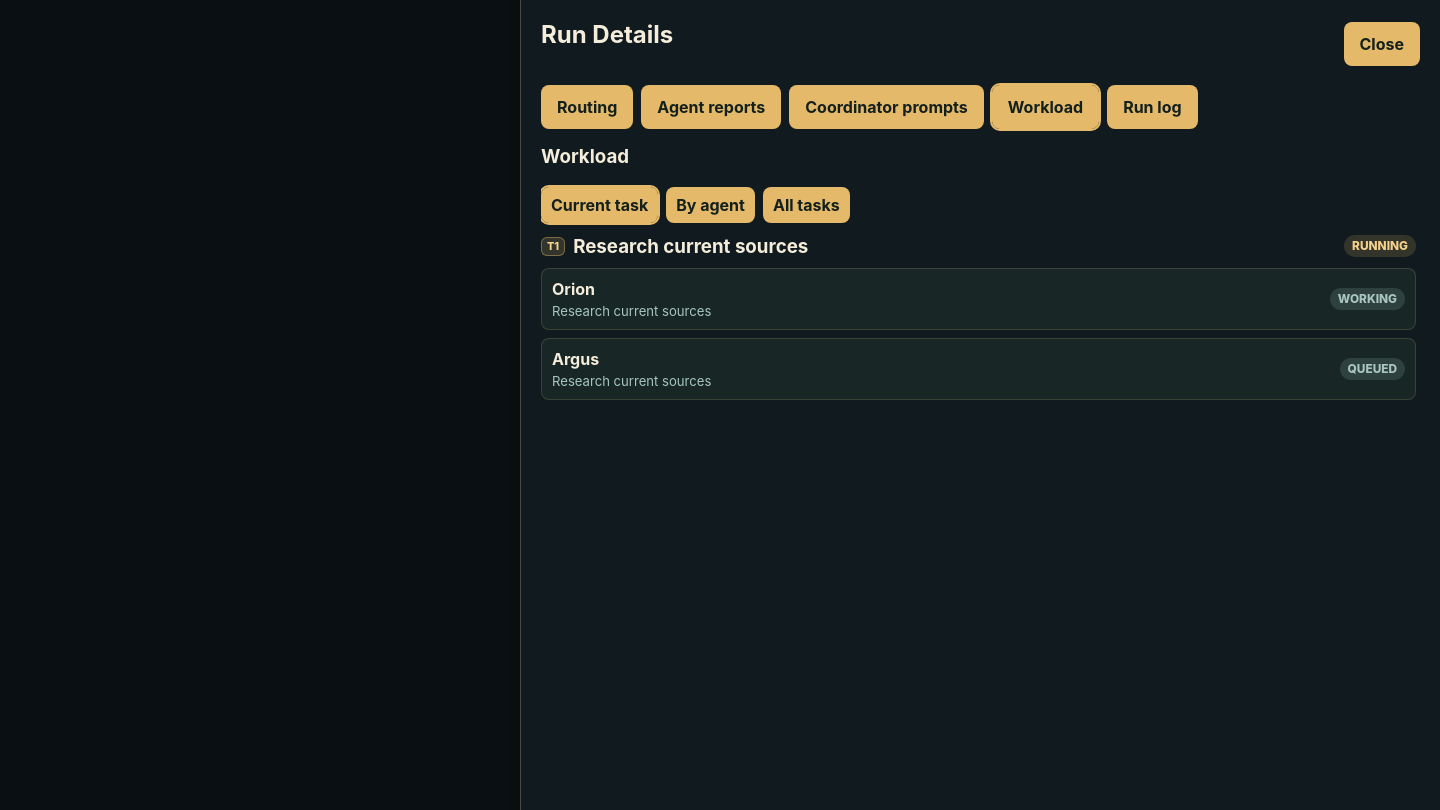
Test: RunDetailDrawer › shows workload details by current task, agent, and all tasks
Check: the element named "Current task workload" shows "T1", box [547, 239, 559, 253]
Check: the element named "Current task workload" shows "Research current sources", box [573, 235, 808, 258]
Click the button "By agent" at {"x": 711, "y": 205}, box [666, 187, 755, 223]
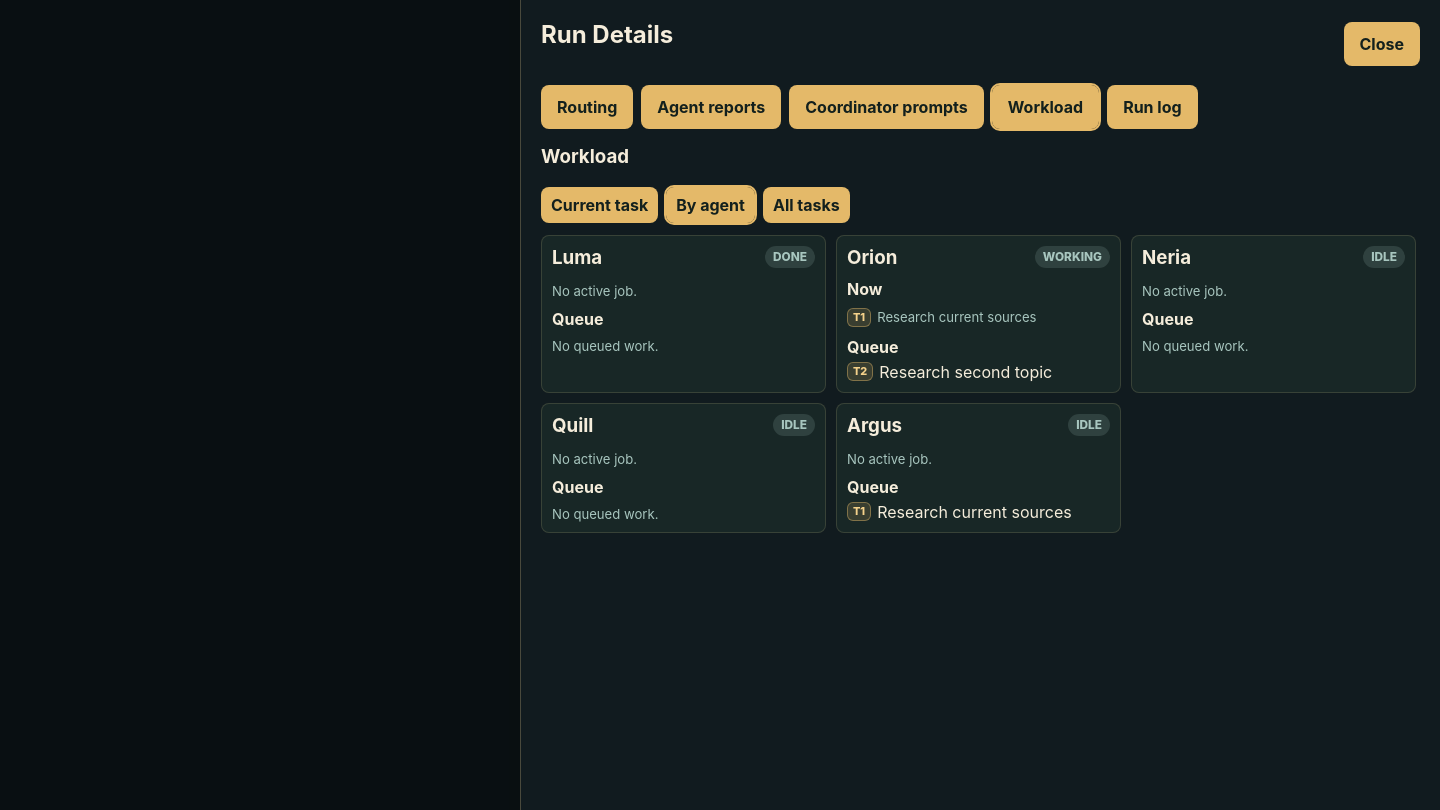
Check: the element named "Orion workload" shows "Now", box [847, 279, 882, 299]
Check: the element named "Orion workload" shows "T1", box [853, 310, 865, 324]
Check: the element named "Orion workload" shows "Research current sources", box [877, 309, 1037, 325]
Click the button "All tasks" at {"x": 806, "y": 205}, box [763, 187, 850, 223]
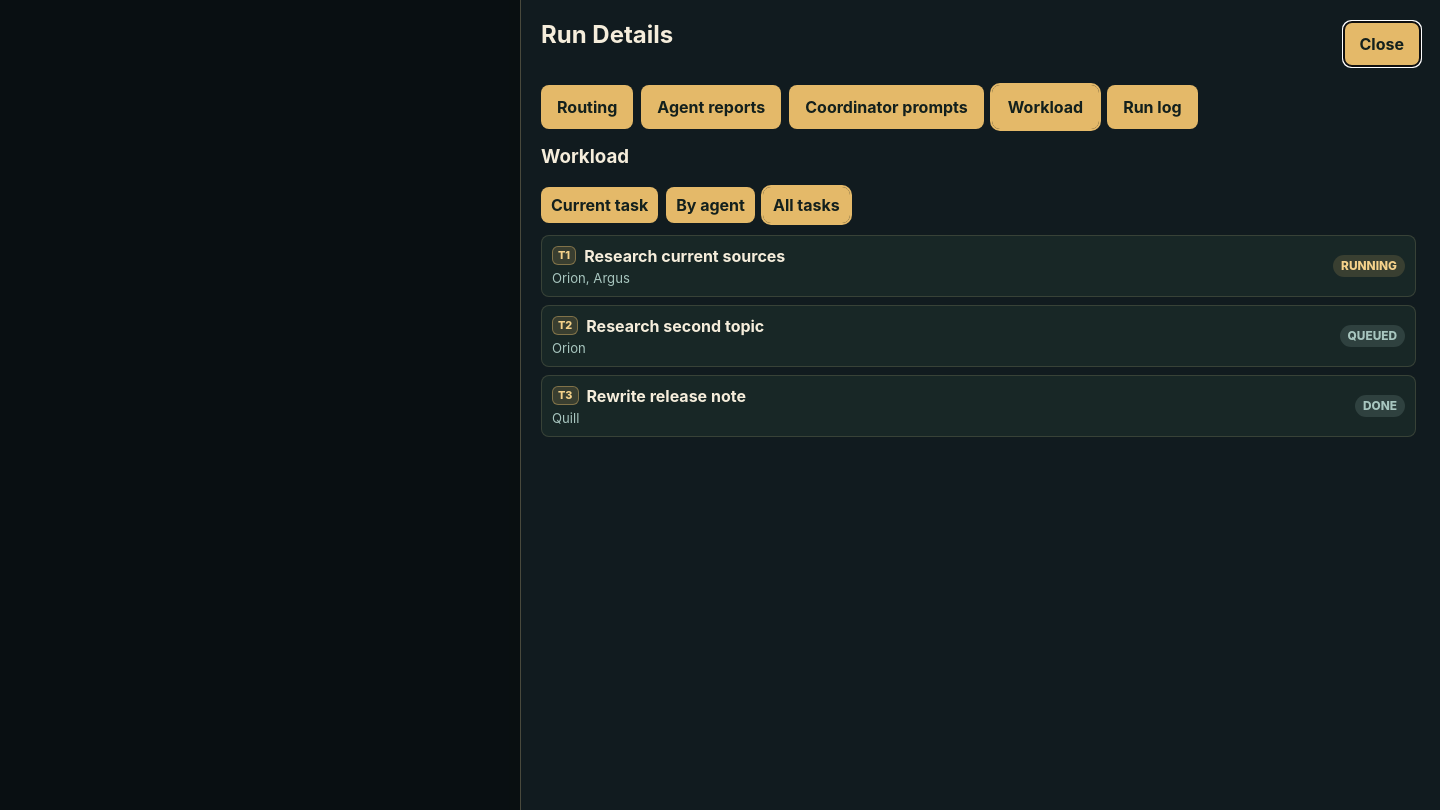
Check: the element named "All task workload" shows "T2", box [558, 318, 572, 332]
Check: the element named "All task workload" shows "running", box [1341, 259, 1397, 273]
Check: the element named "All task workload" shows "T3", box [558, 388, 572, 402]
